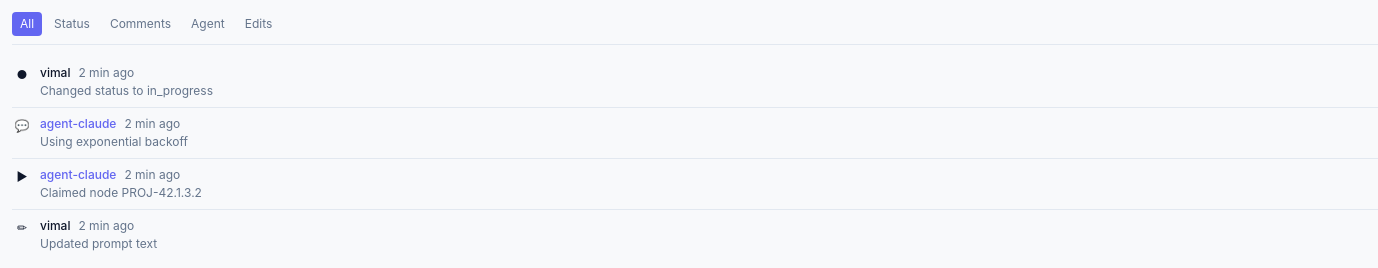
it: ActivityStream › filters by activity type
# Click "Status" filter.
What coordinates should you click on to do the following:
click the button with test id "filter-status"
I would click on:
 (72, 24)
Its box is [46,12,98,36].
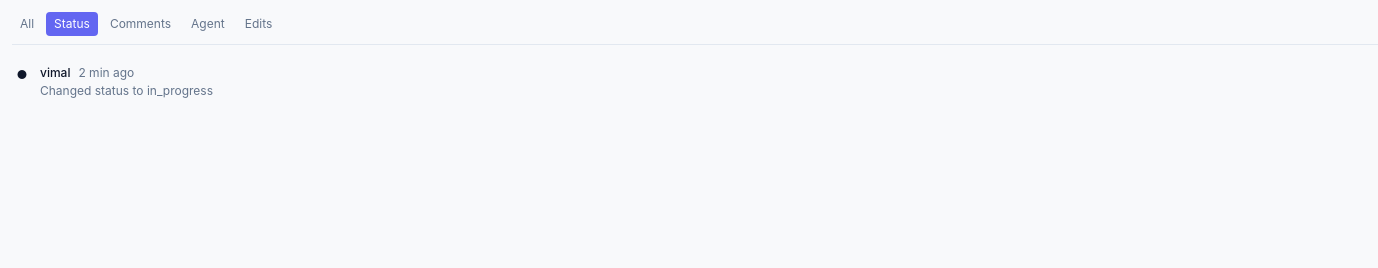
Check: the number of elements with test id "activity-entry" is 1, box [16,65,213,98]
# Click "Agent" filter.
What coordinates should you click on to do the following:
click the button with test id "filter-agent"
I would click on:
 (208, 24)
Its box is [183,12,233,36].
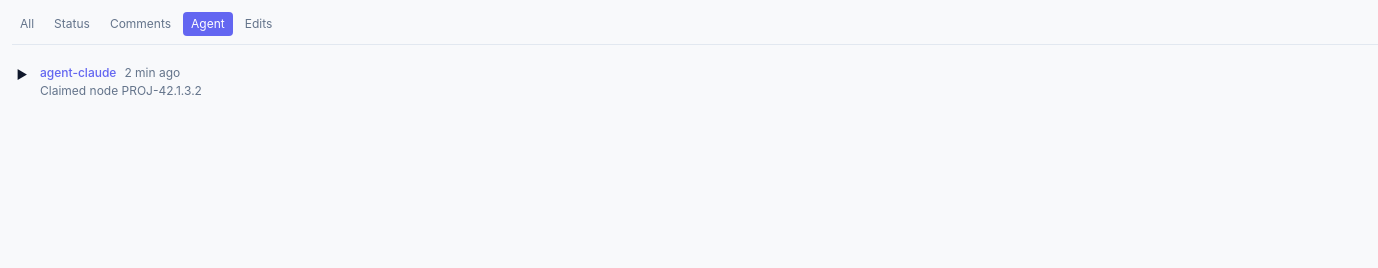
Check: the number of elements with test id "activity-entry" is 1, box [16,65,202,98]
# Click "All" to reset.
What coordinates should you click on to do the following:
click the button with test id "filter-all"
I would click on:
 (27, 24)
Its box is [12,12,42,36].
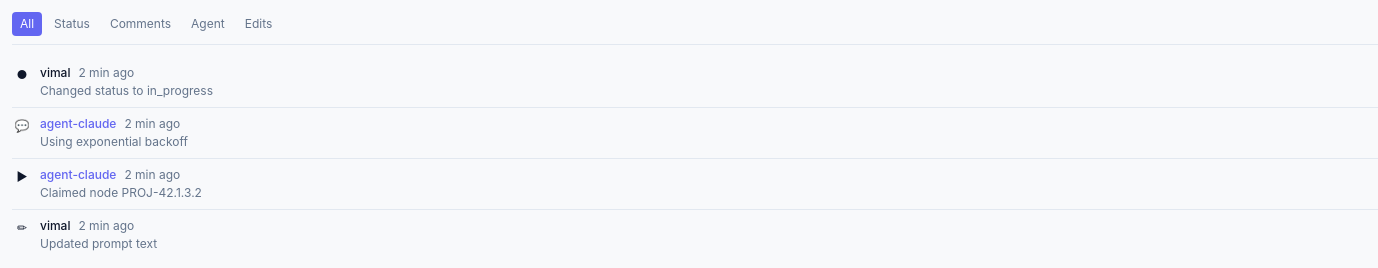
Check: the number of elements with test id "activity-entry" is 4, box [12,57,1377,108]; [12,108,1377,159]; [12,159,1377,210]; [17,218,157,251]
